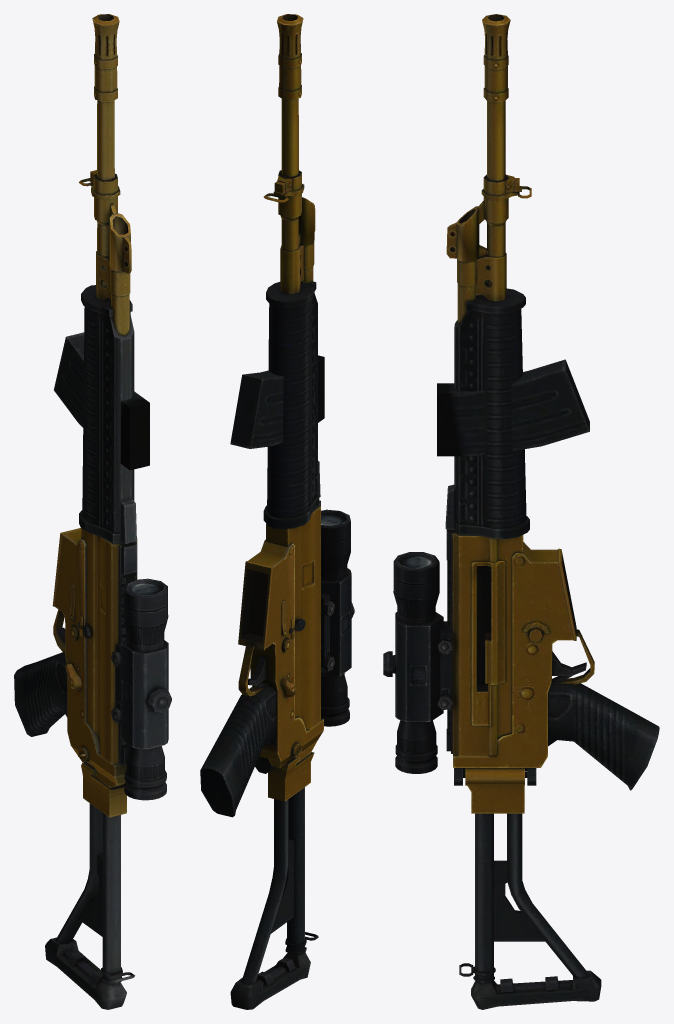
File: Pindad_SS2_V4_Gold.obj
The picture shows the model from 3 angles, left to right: view 1: azimuth 30°, elevation 25°; view 2: azimuth 150°, elevation 25°; view 3: azimuth 270°, elevation 25°; orthographic projection. The views are drawn at different scales.
Visible parts, largest first — view 1: SS2-V4_Para_Sniper_LOD0, SS2-V4_Para_Sniper_socpe, SS2-V4_Para_Sniper_LOD0_Magazine; view 2: SS2-V4_Para_Sniper_LOD0, SS2-V4_Para_Sniper_socpe, SS2-V4_Para_Sniper_LOD0_Magazine; view 3: SS2-V4_Para_Sniper_LOD0, SS2-V4_Para_Sniper_socpe, SS2-V4_Para_Sniper_LOD0_Magazine.
Boxes of the visible parts, left/top/right/bottom form: SS2-V4_Para_Sniper_LOD0: left=14, top=14, right=137, bottom=1009; SS2-V4_Para_Sniper_socpe: left=111, top=578, right=171, bottom=800; SS2-V4_Para_Sniper_LOD0_Magazine: left=54, top=332, right=149, bottom=470; SS2-V4_Para_Sniper_LOD0: left=200, top=14, right=323, bottom=1009; SS2-V4_Para_Sniper_socpe: left=321, top=509, right=354, bottom=726; SS2-V4_Para_Sniper_LOD0_Magazine: left=230, top=355, right=324, bottom=448; SS2-V4_Para_Sniper_LOD0: left=445, top=14, right=659, bottom=1009; SS2-V4_Para_Sniper_socpe: left=383, top=552, right=452, bottom=773; SS2-V4_Para_Sniper_LOD0_Magazine: left=437, top=359, right=589, bottom=456.
Size of the model in its own units: 0.0391 by 0.9395 by 0.2383.
2 materials, 2 textured.
